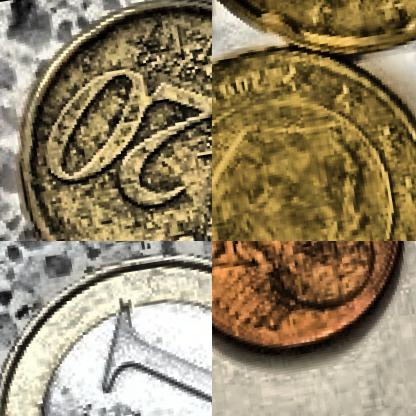coin: (0, 0, 211, 240), (212, 28, 415, 240), (0, 241, 211, 415), (212, 241, 415, 370)
